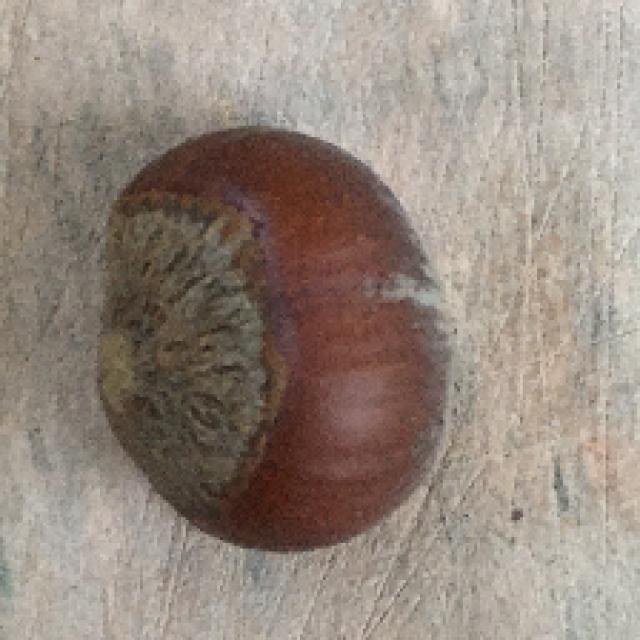qualityHazelnut: (86, 124, 460, 557)
